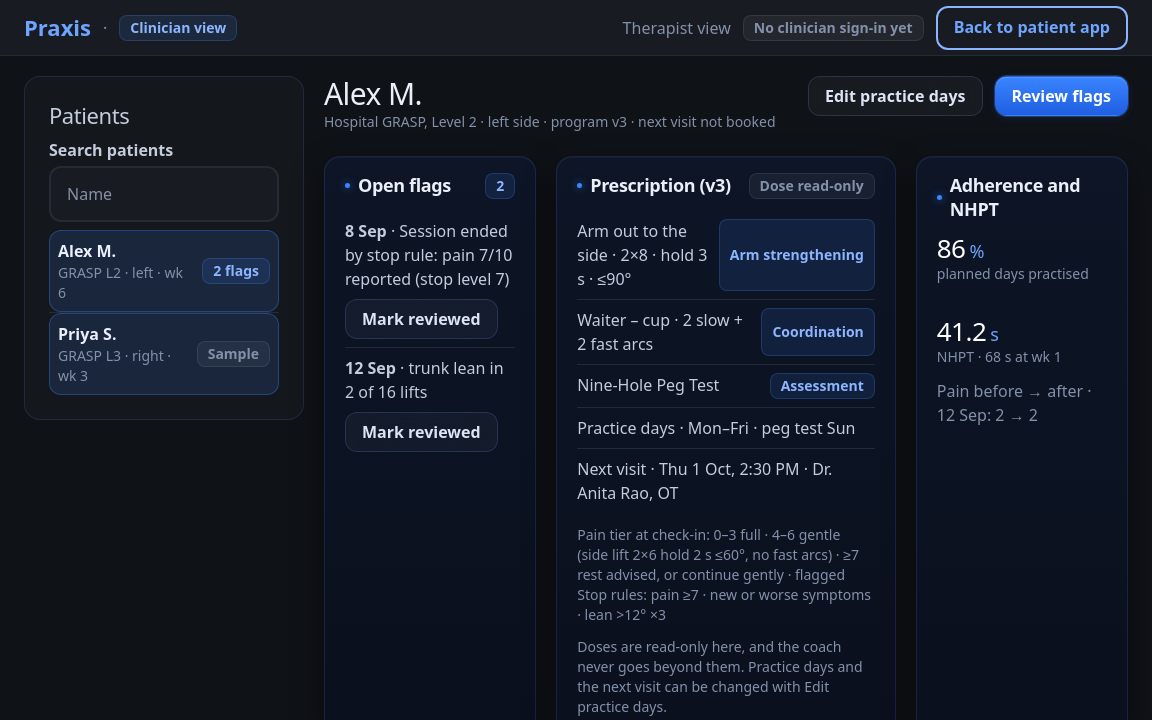
Scenario: the dialog opens on the current schedule
This screenshot has width=1152, height=720.
Expected: the heading "Alex M." is shown, [324,73,422,114]
Expected: the element named "Prescription" shows "Practice days · Mon–Fri · peg test Sun", [577,211,875,717]
Click the button "Edit practice days" at [895, 96], box [808,76,982,116]
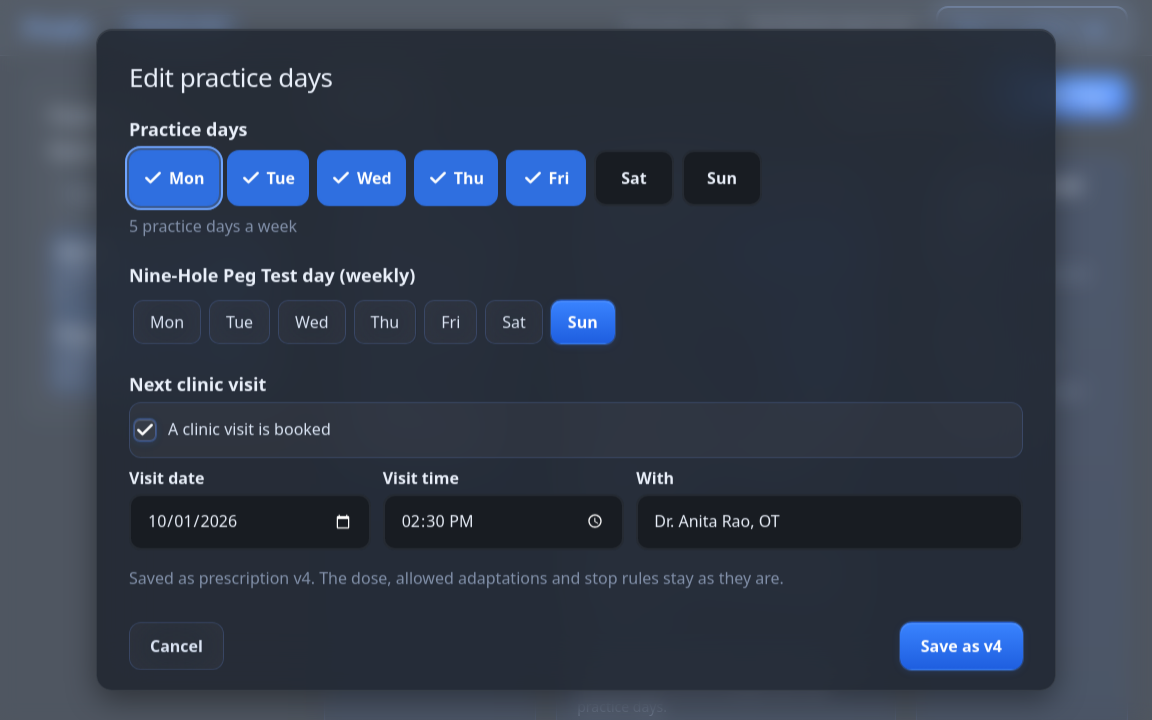
Expected: the date field labelled "Visit date" holds "2026-10-01", [129,493,371,549]
Expected: the time field labelled "Visit time" holds "14:30", [383,493,624,549]
Expected: the field labelled "With" holds "Dr. Anita Rao, OT", [636,493,1023,549]
